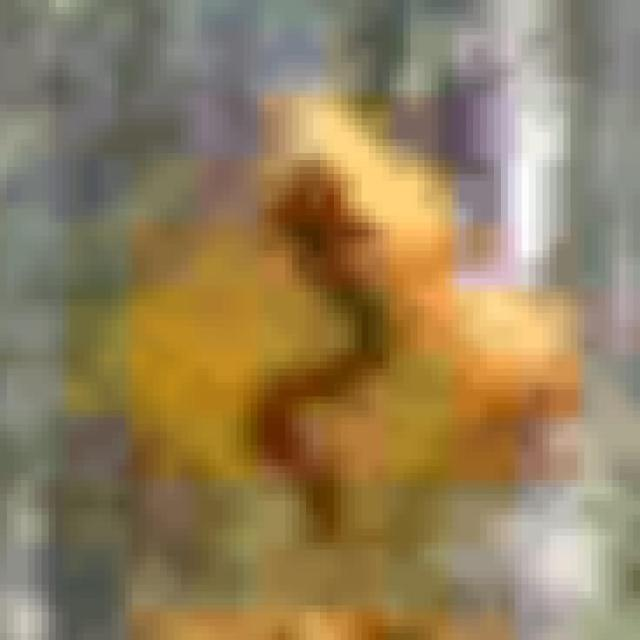Banyak Tikungan Pertama Kiri: (42, 98, 570, 570)
